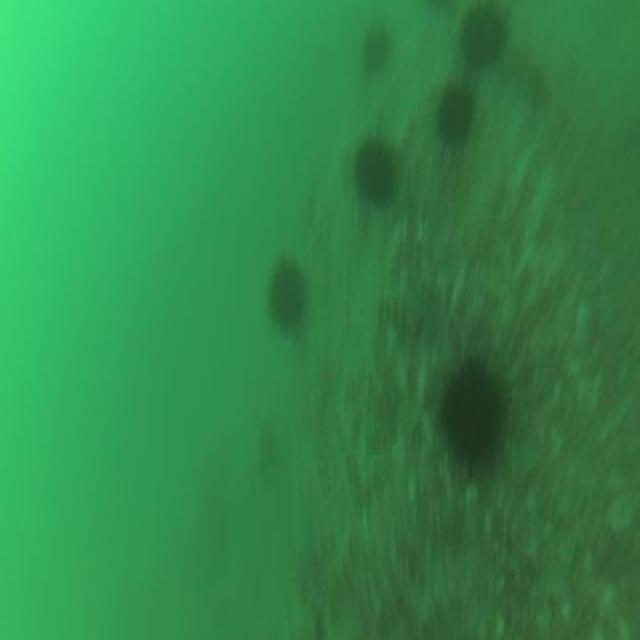echinus: (436, 352, 508, 479), (350, 128, 398, 218), (459, 3, 508, 81), (266, 250, 310, 335), (436, 76, 476, 153), (358, 23, 394, 88)
